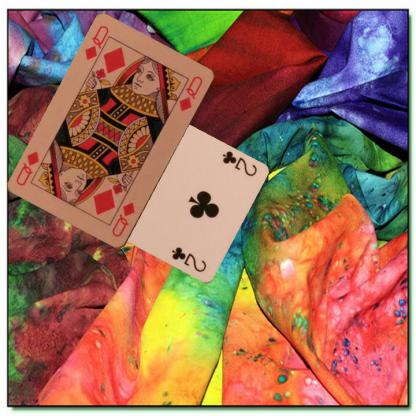2c: (220, 148, 258, 178)
Qd: (82, 23, 112, 68), (109, 200, 137, 239)
